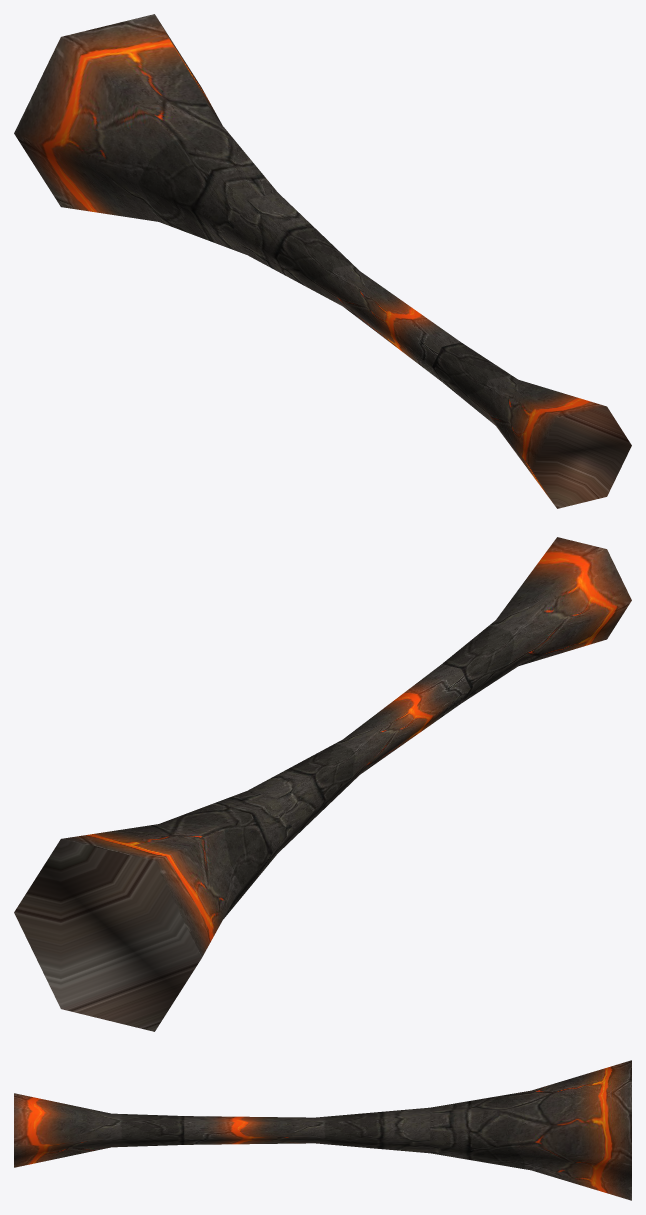
File: rock-pillar_09.obj
The picture shows the model from 3 angles, top to bottom: view 1: azimuth 30°, elevation 25°; view 2: azimuth 150°, elevation 25°; view 3: azimuth 270°, elevation 25°; orthographic projection. The views are drawn at different scales.
Parts seen in each view (by area): view 1: (null); view 2: (null); view 3: (null).
Boxes of the visible parts, bbox=[...] form: (null): bbox=[14, 14, 631, 508]; (null): bbox=[14, 537, 631, 1031]; (null): bbox=[14, 1060, 631, 1200].
Size of the model in its own units: 3.35 by 2.9 by 14.66.
